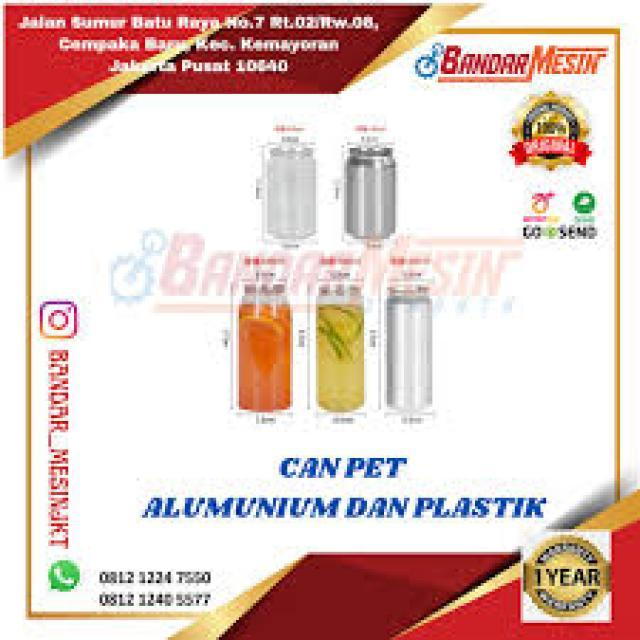good: (227, 264, 298, 428), (318, 276, 382, 434), (263, 132, 323, 251)
